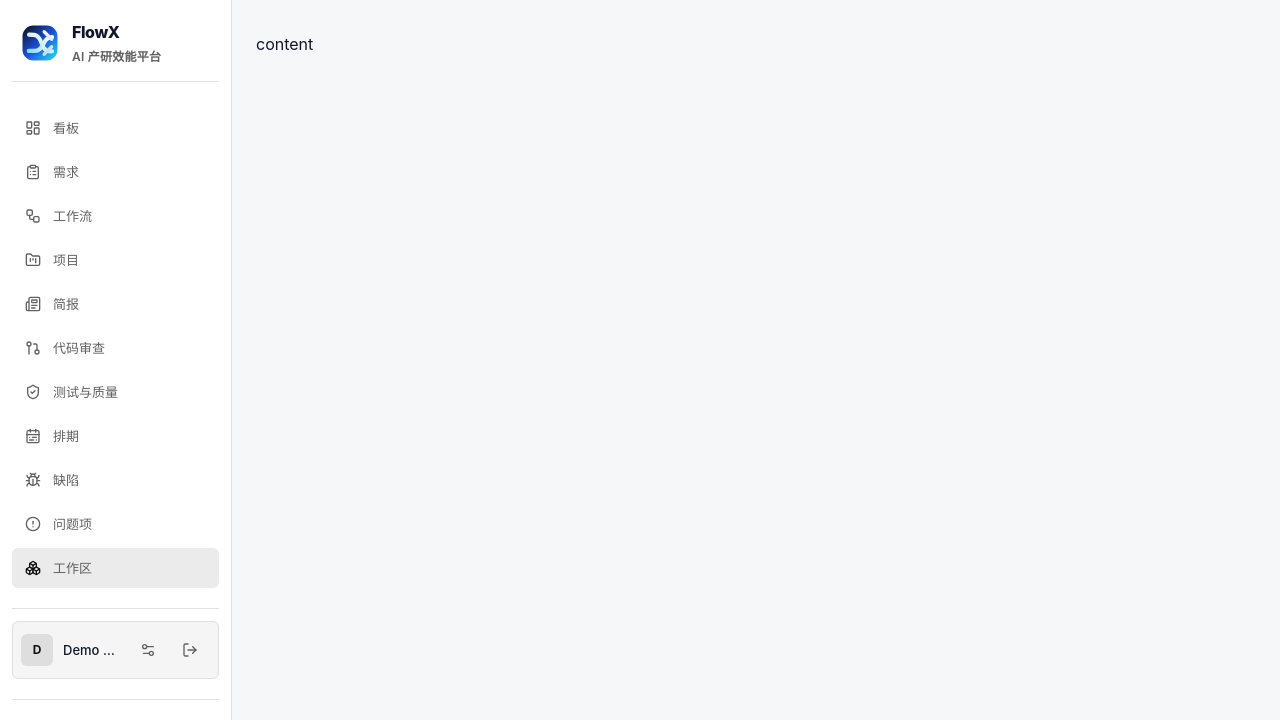
AppLayout › includes Local Agent in the settings secondary menu
Step 1. Click the button named "设置与帮助" → x=148, y=650, box left=128, top=630, right=168, bottom=670
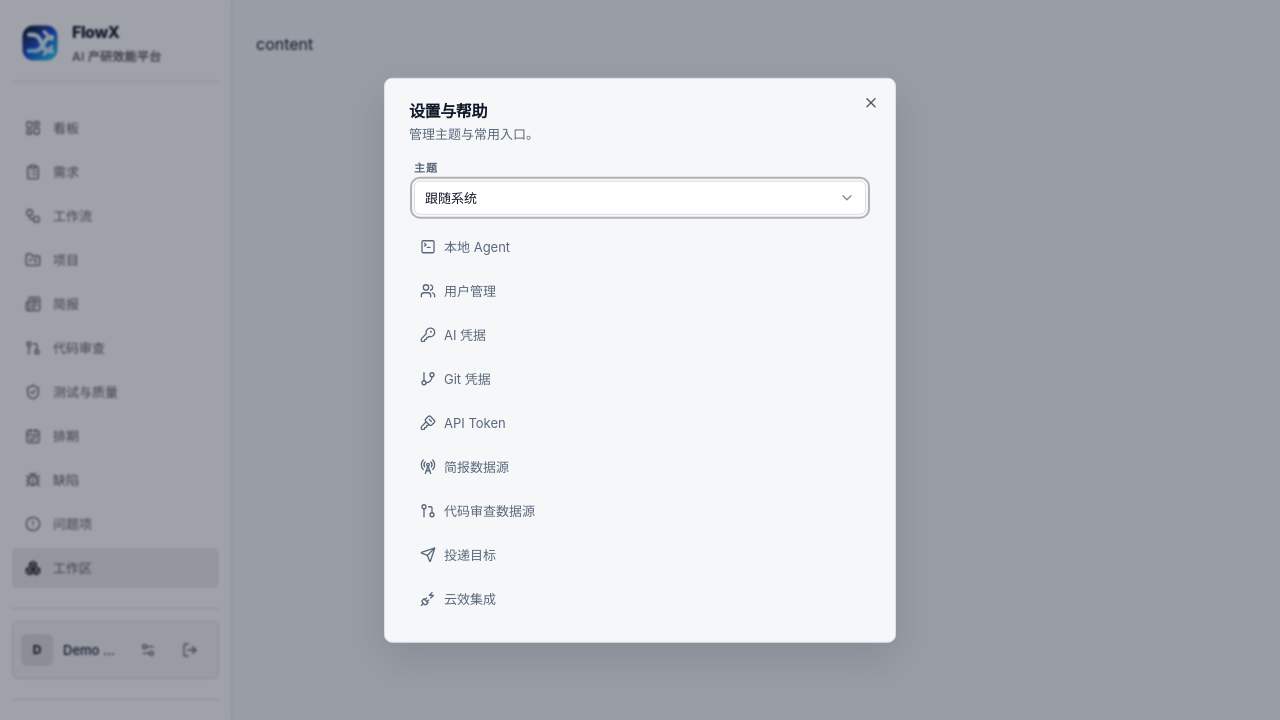
Now the link "本地 Agent" is shown, box left=420, top=238, right=510, bottom=254
